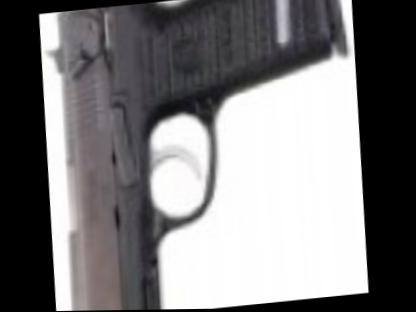pistol: (36, 0, 362, 310)
